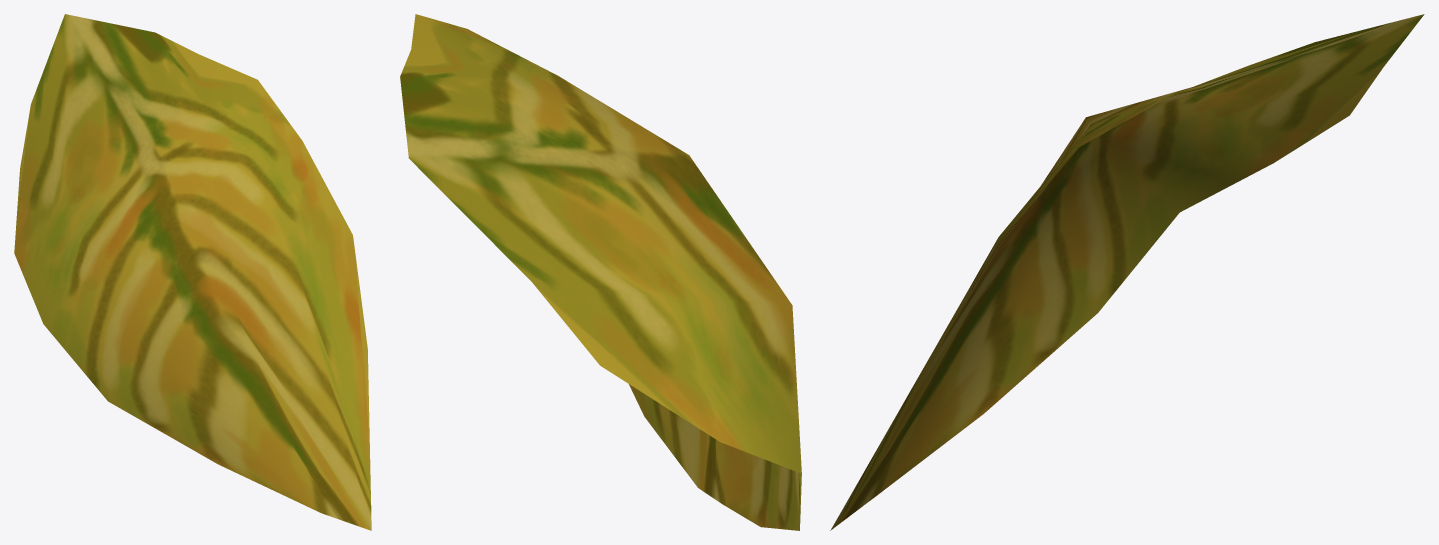
Rendered from leaf final animation falling.fbx.
3 views of the same model, side by side, from view 1: azimuth 30°, elevation 25°; view 2: azimuth 150°, elevation 25°; view 3: azimuth 270°, elevation 25° (orthographic). The views are drawn at different scales.
Visible parts, largest first — view 1: pPlane1; view 2: pPlane1; view 3: pPlane1.
Boxes of the visible parts, x1,y1,x2,y2 form: pPlane1: [14, 14, 371, 530]; pPlane1: [400, 14, 801, 530]; pPlane1: [830, 14, 1424, 530].
Bounding box in the file's own units: 0.896 × 1.33 × 1.52.
